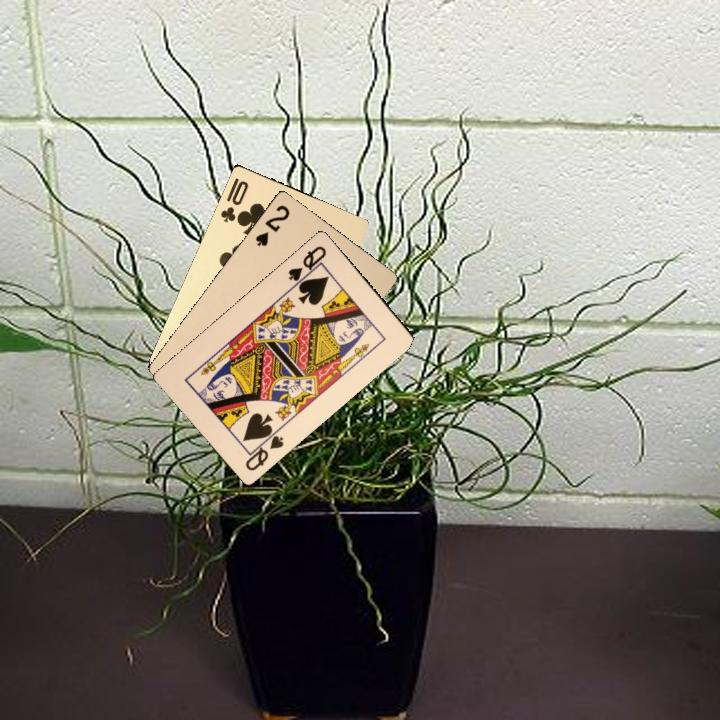10c: (216, 174, 251, 225)
2s: (251, 201, 292, 249)
Qs: (241, 426, 287, 474), (284, 242, 329, 290)
